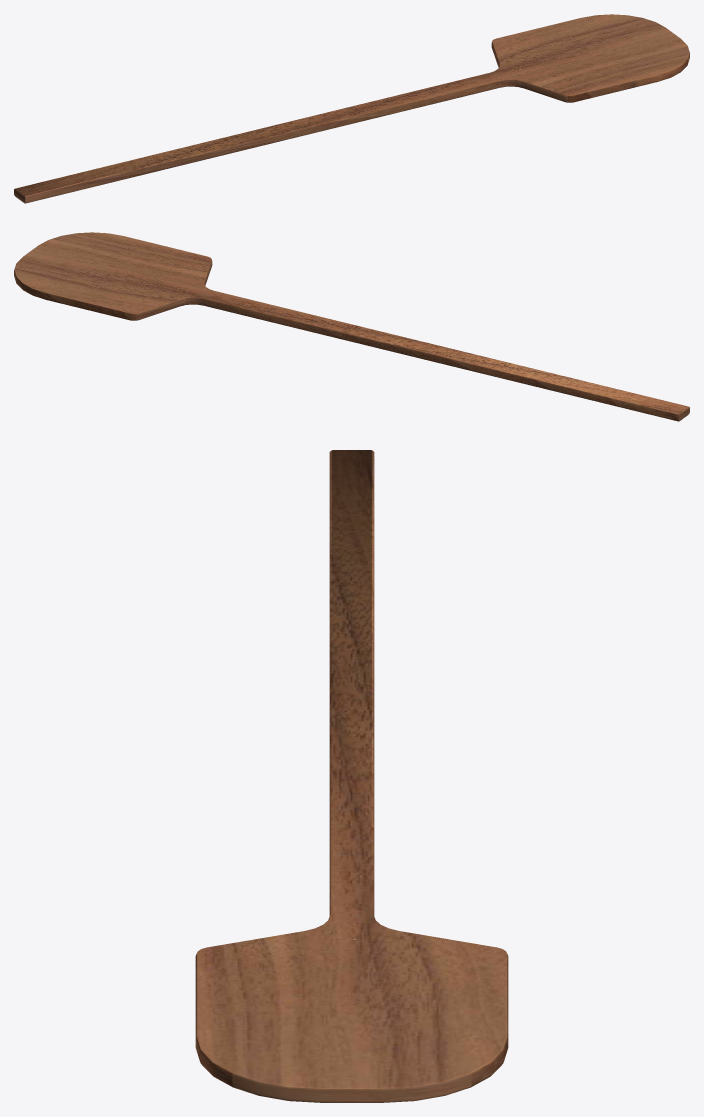
File: PaddleBread.fbx
3 renders of one model, top to bottom at view 1: azimuth 30°, elevation 25°; view 2: azimuth 150°, elevation 25°; view 3: azimuth 270°, elevation 25°, orthographic. The views are drawn at different scales.
Parts seen in each view (by area): view 1: Pizza Paddle; view 2: Pizza Paddle; view 3: Pizza Paddle.
Part boxes in pixels (box(x1,y1,x2,y2)): Pizza Paddle: box(14, 14, 689, 203); Pizza Paddle: box(14, 232, 689, 421); Pizza Paddle: box(195, 450, 508, 1102).
Size of the model in its own units: 3043 by 35.16 by 630.
1 material, 1 textured.
